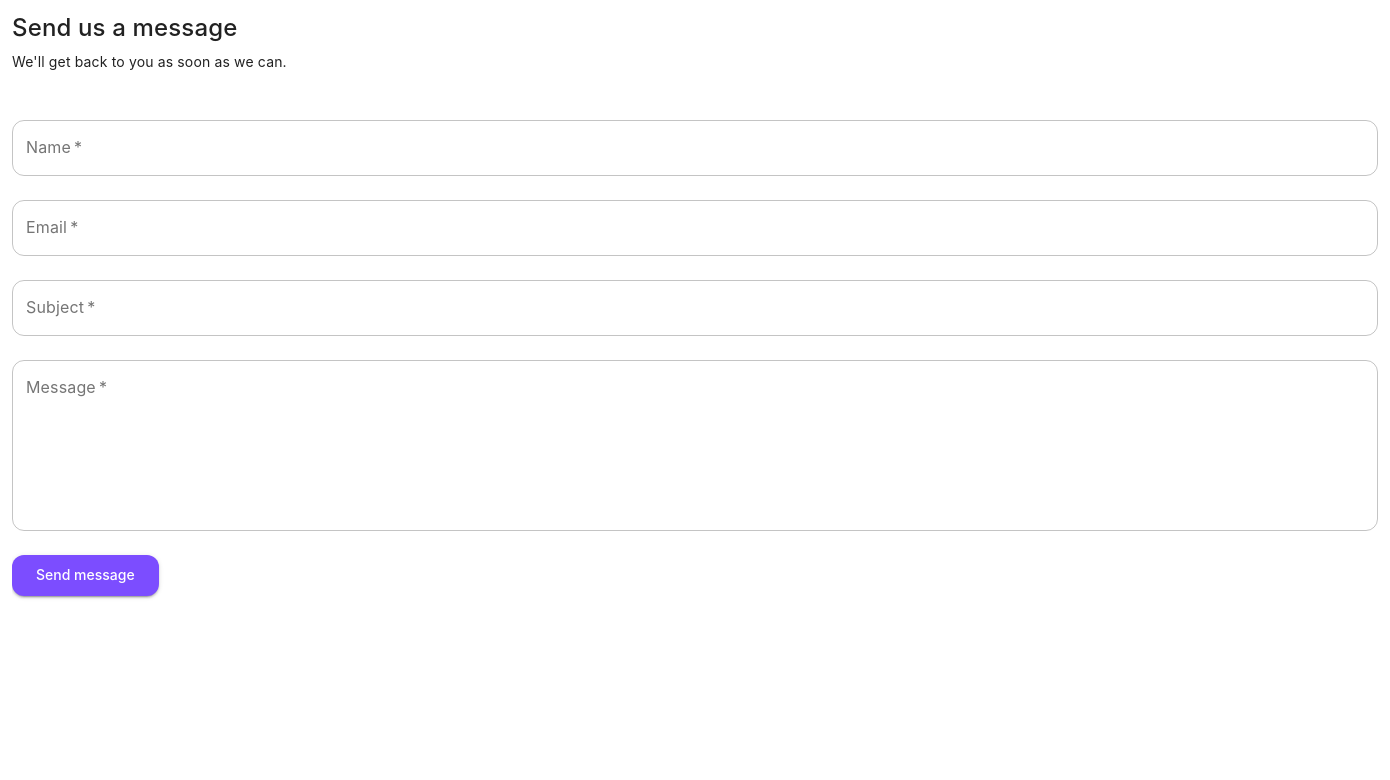
Test case: ContactForm › requires every field before submitting
Click the button "Send message": coordinates (85, 576) [12,555,159,596]
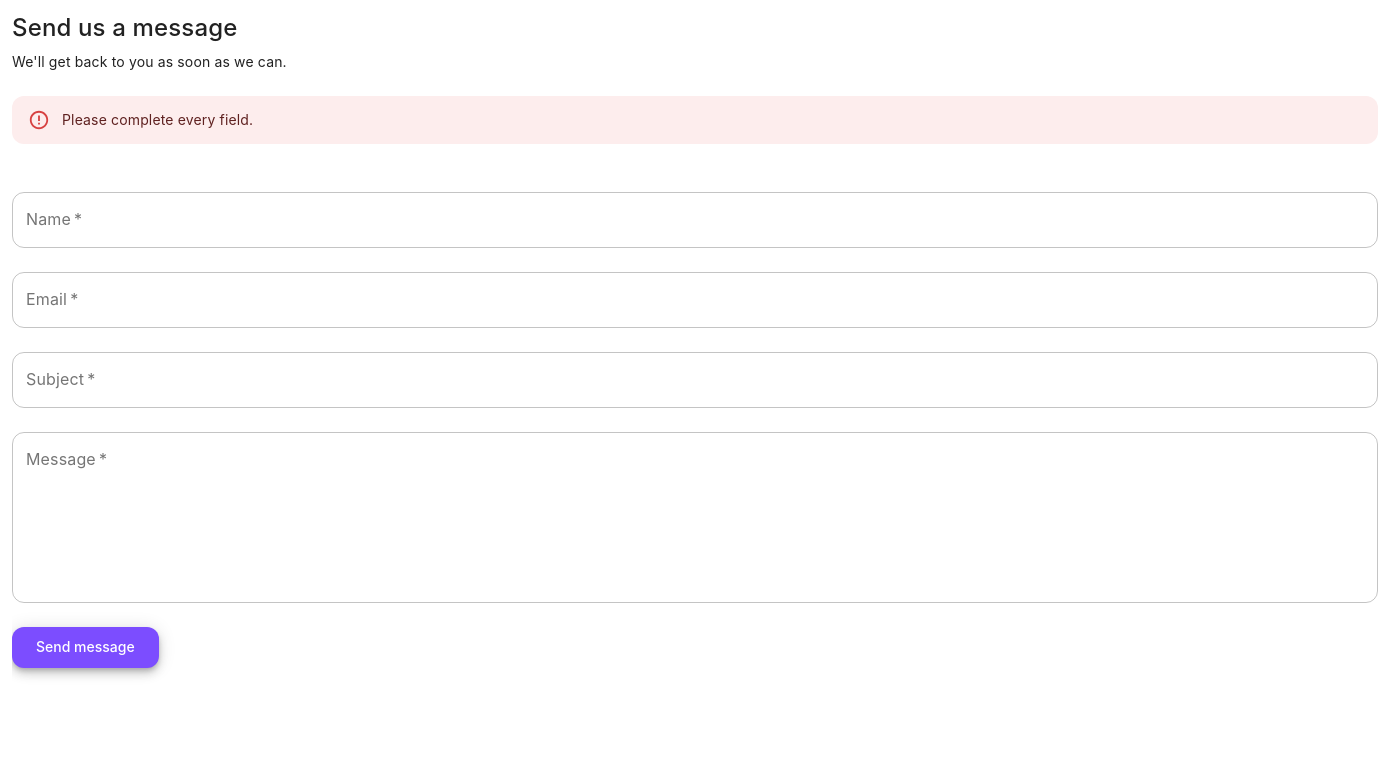
Result: the text "Please complete every field." is shown at [62,111,253,128]
